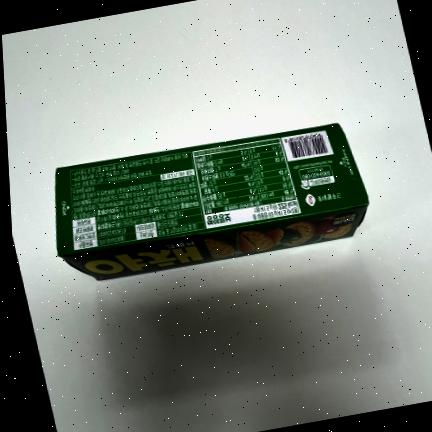cracker_vege: (56, 124, 370, 282)
